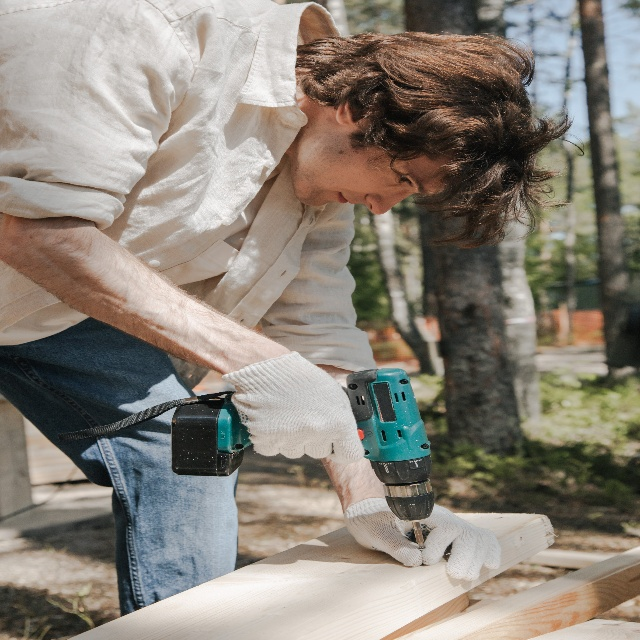Guantes: (221, 360, 367, 459), (346, 494, 500, 586)
